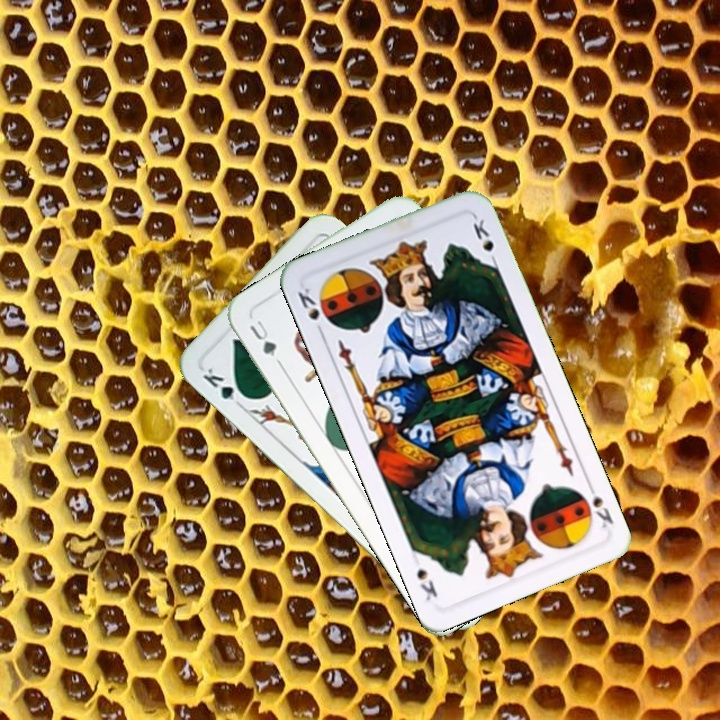GK: (198, 364, 251, 411)
GU: (245, 316, 279, 360)
SK: (293, 283, 327, 339), (583, 477, 616, 532)
